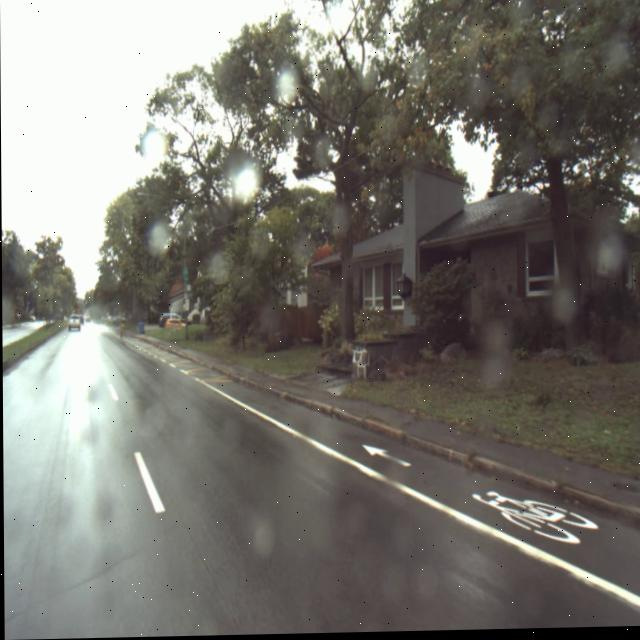car: (158, 313, 182, 329), (68, 314, 81, 332), (163, 320, 183, 331)
